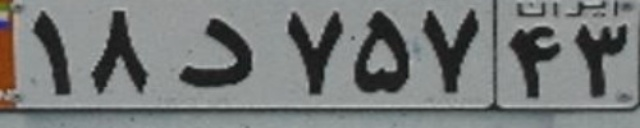1: (28, 10, 73, 96)
3: (573, 23, 630, 98)
4: (509, 25, 562, 98)
5: (355, 9, 408, 93)
7: (282, 9, 344, 95), (419, 7, 478, 94)
8: (92, 8, 149, 94)
dal: (175, 16, 253, 88)
